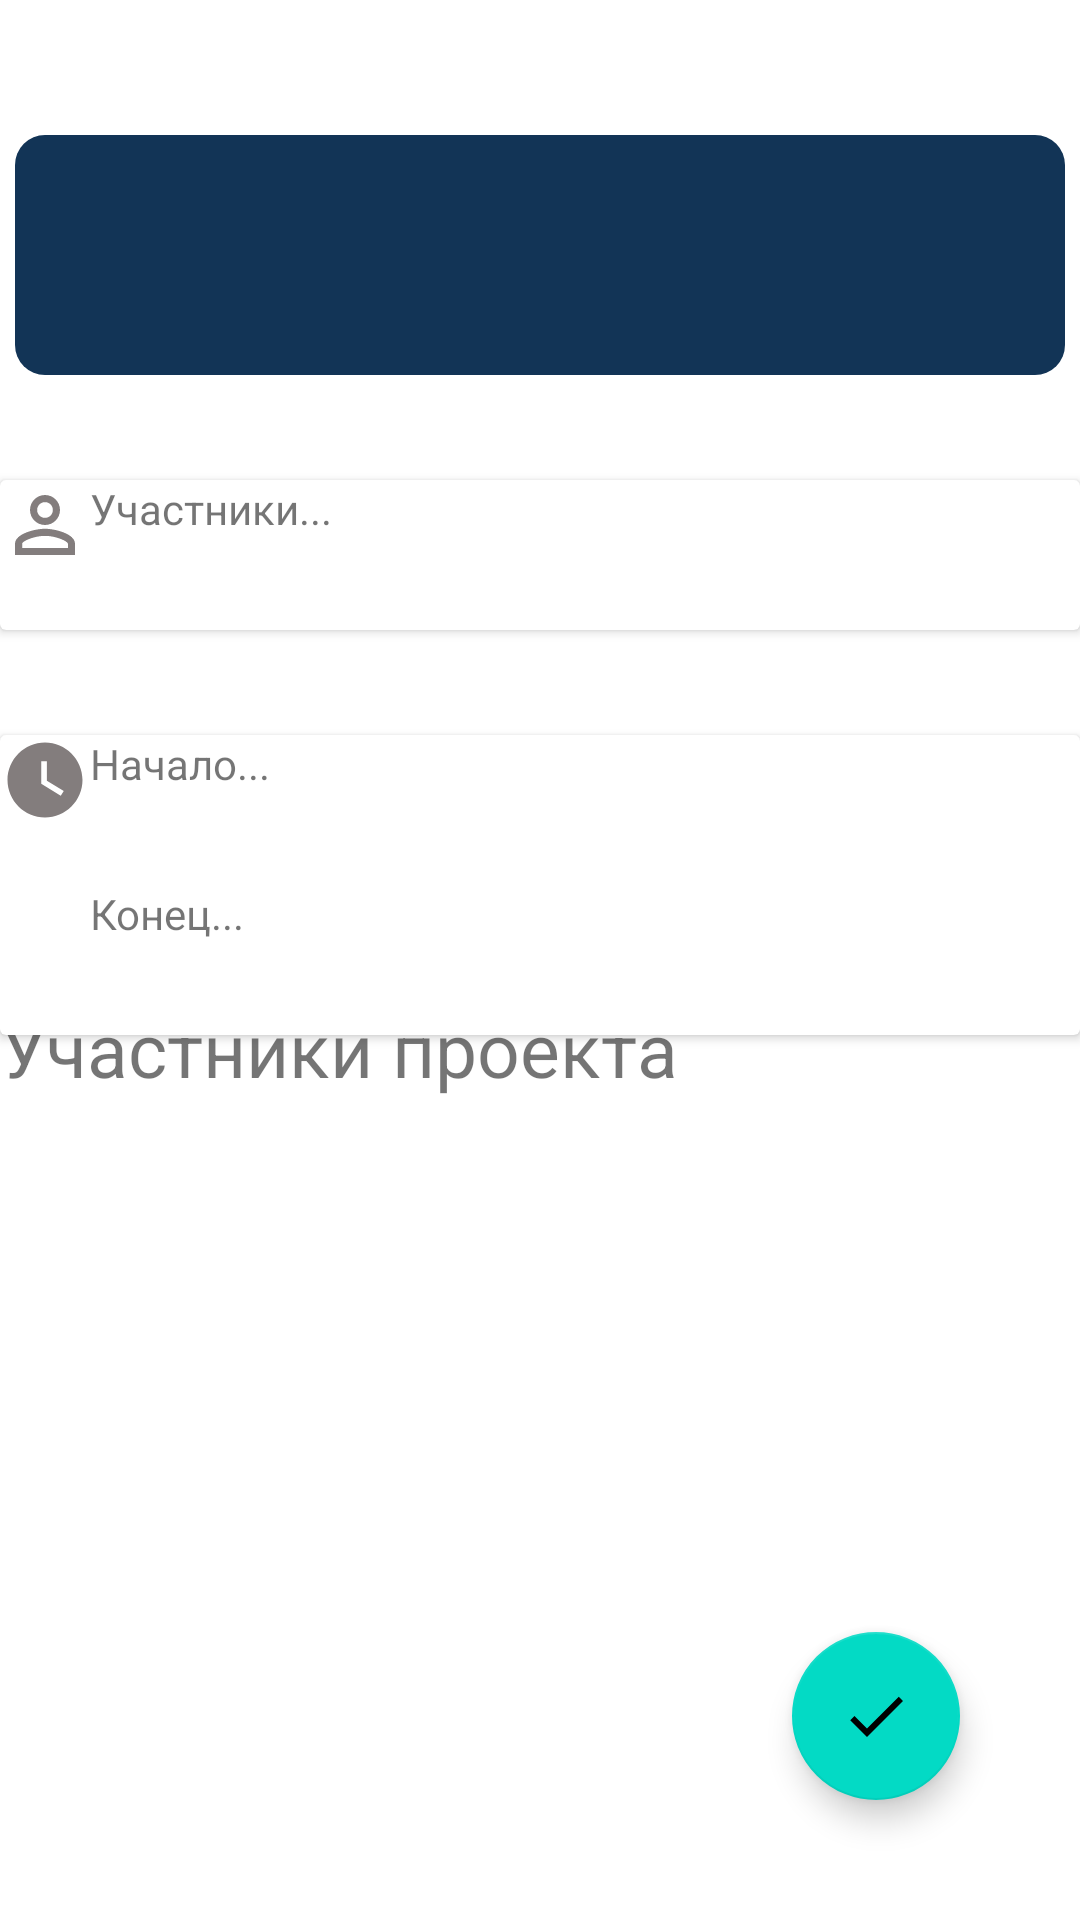

Point at icon controls on the screen. Image size 1080×1920, points as (x,y).
check: (876,1716)
person: (45,525)
watch later: (45,780)
